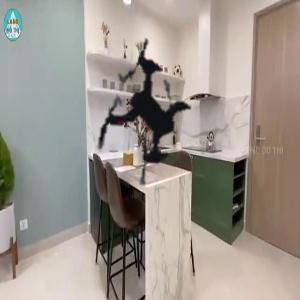drone: (42, 9, 249, 216)
